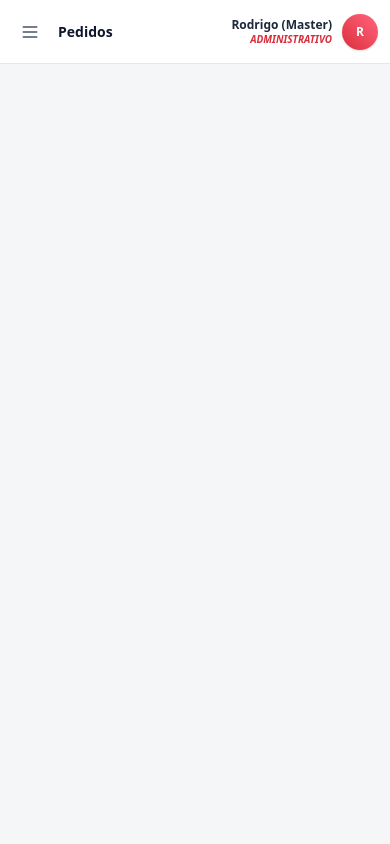
Scenario: AppShellLayout Responsive Mobile/Tablet Behavior › should start with mobile drawer closed on phone screen (<768px) and toggle drawer with backdrop when clicking menu button
Later steps or results of the test are not shown.
// Click hamburger menu button to open mobile drawer
Click the button named "Alternar menu". click: (30, 32)
box: [12,14,48,50]
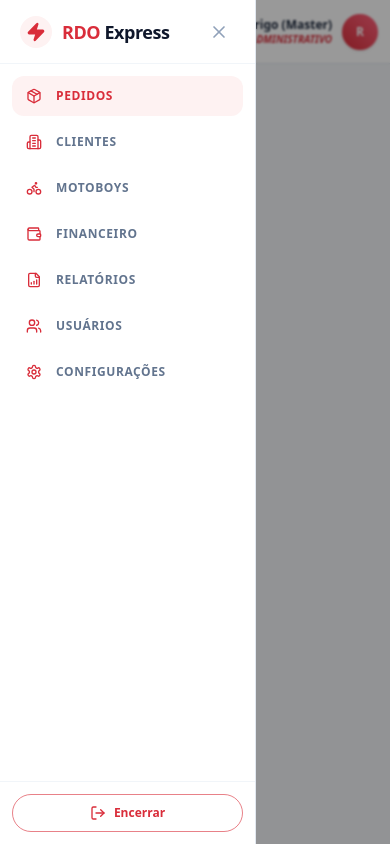
Now the element with test id "mobile-sidebar-backdrop" is shown
